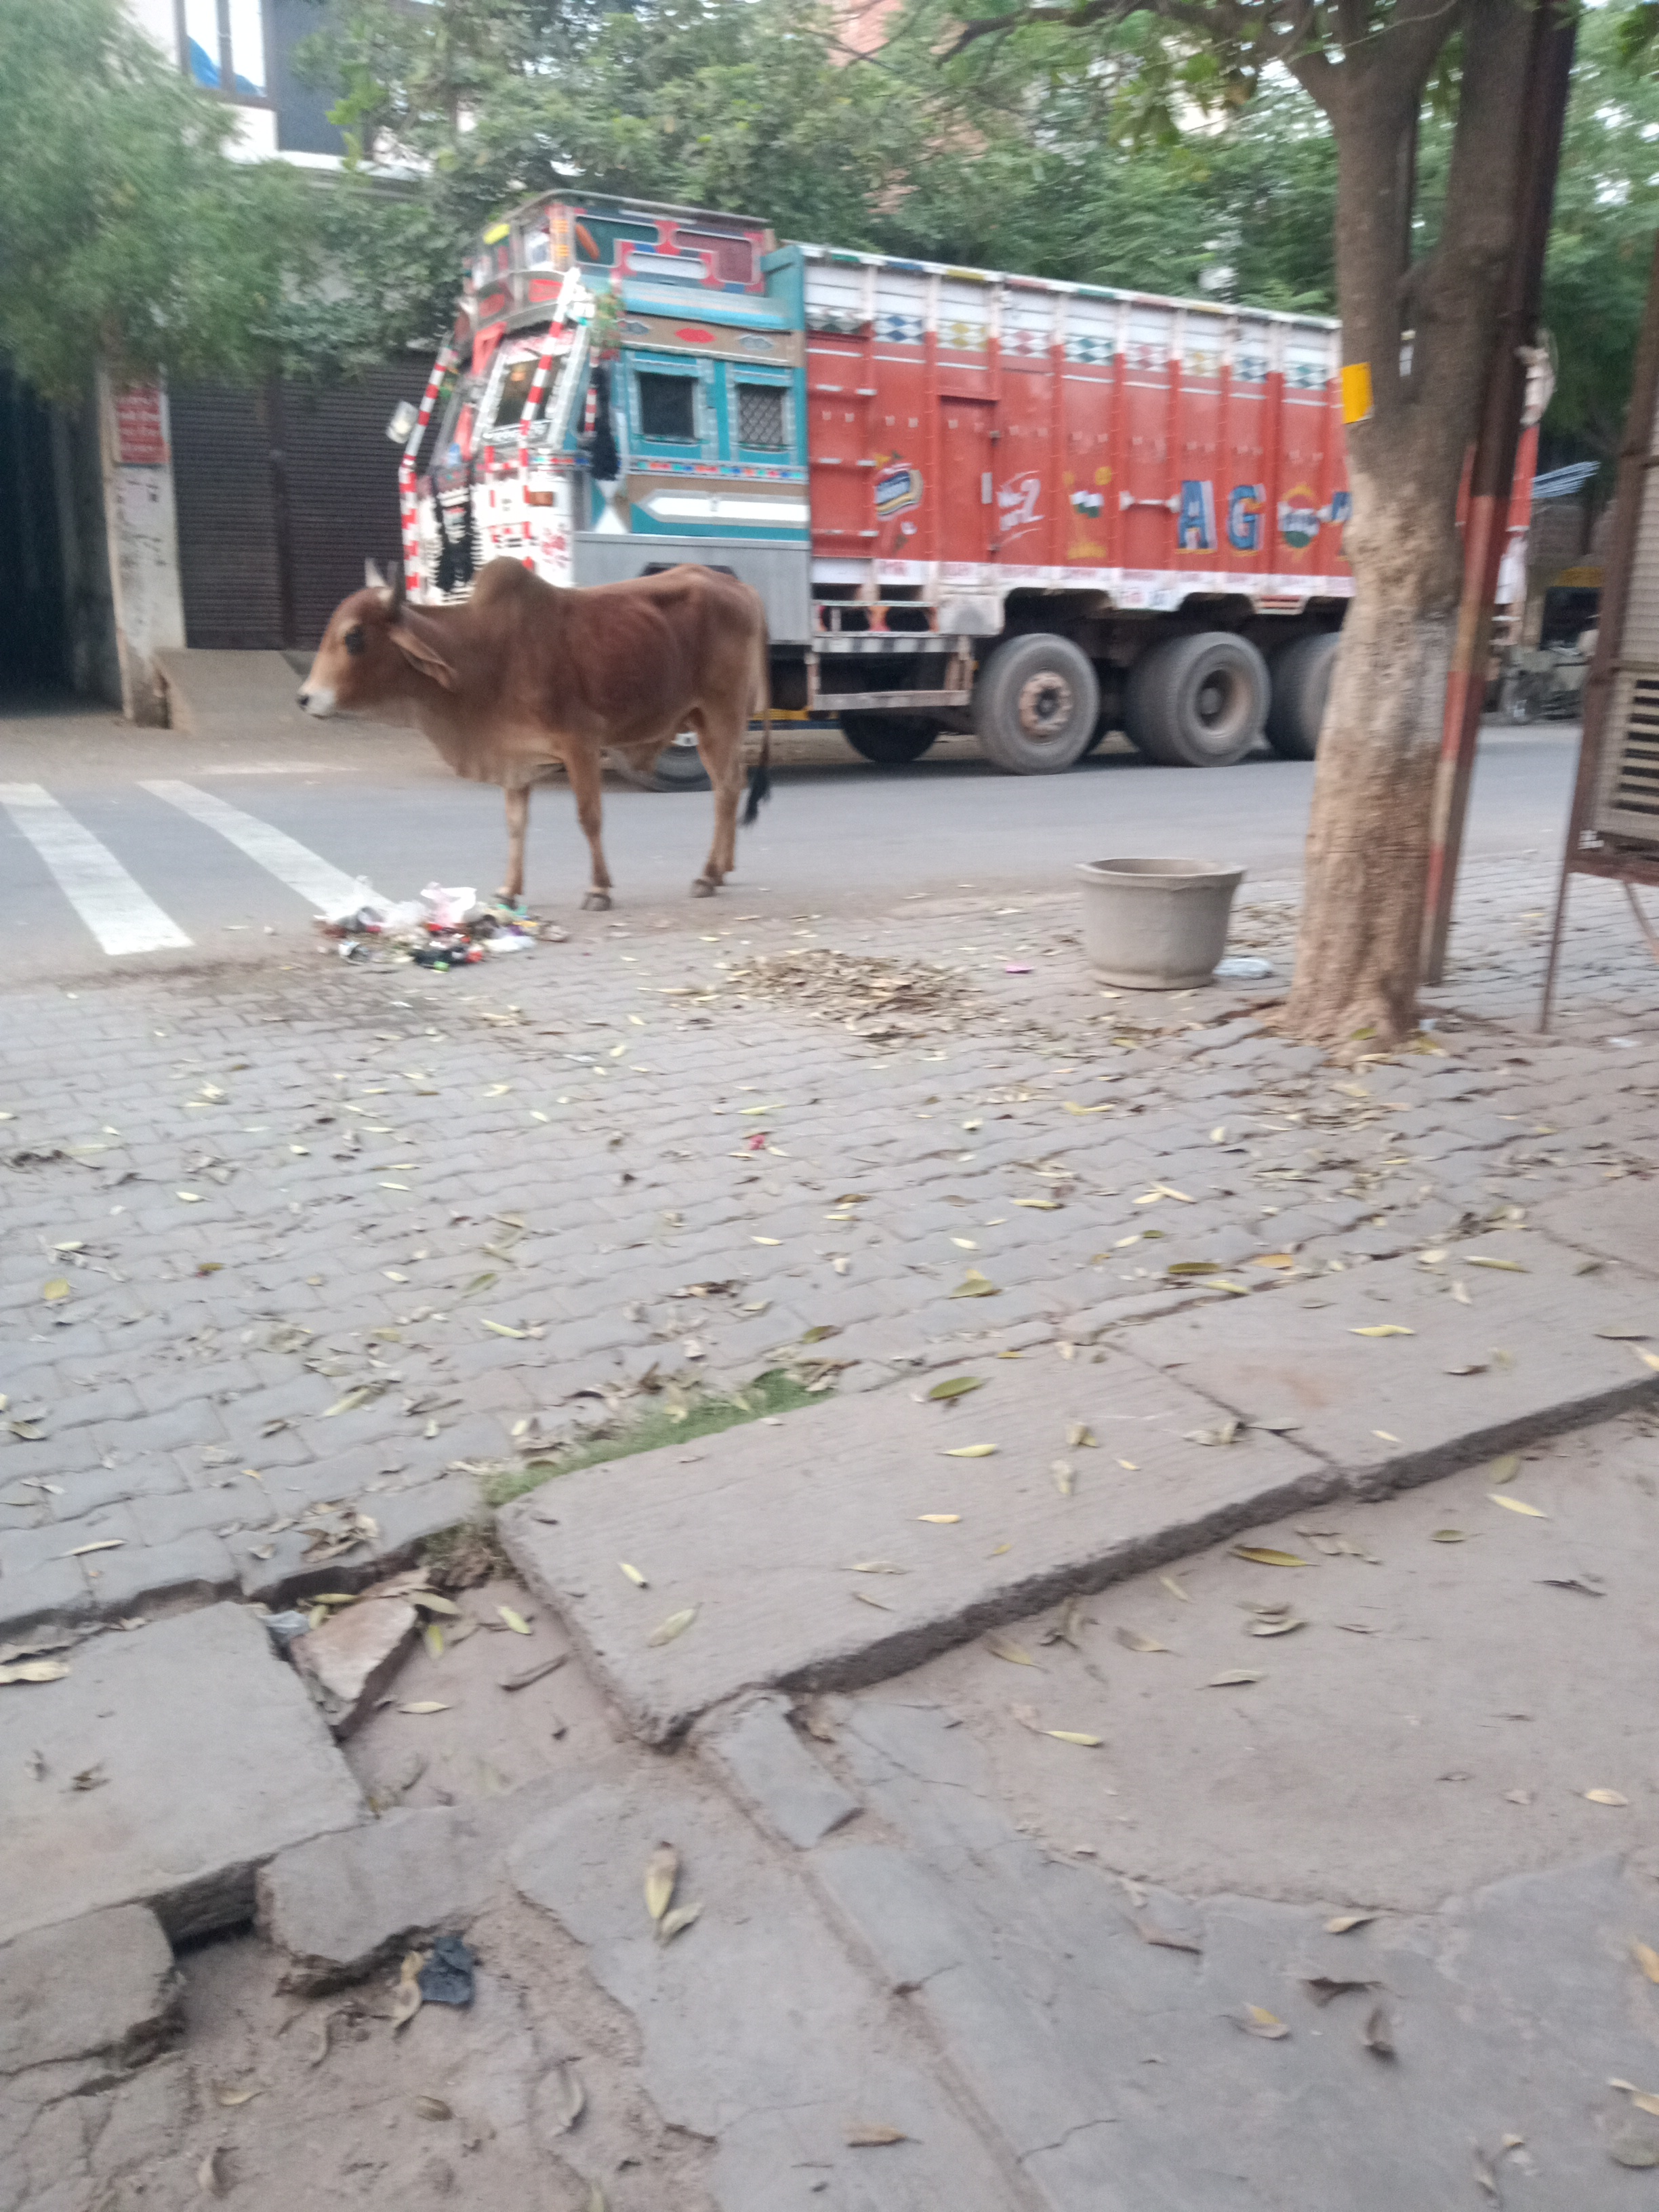truck: (383, 183, 1558, 779)
